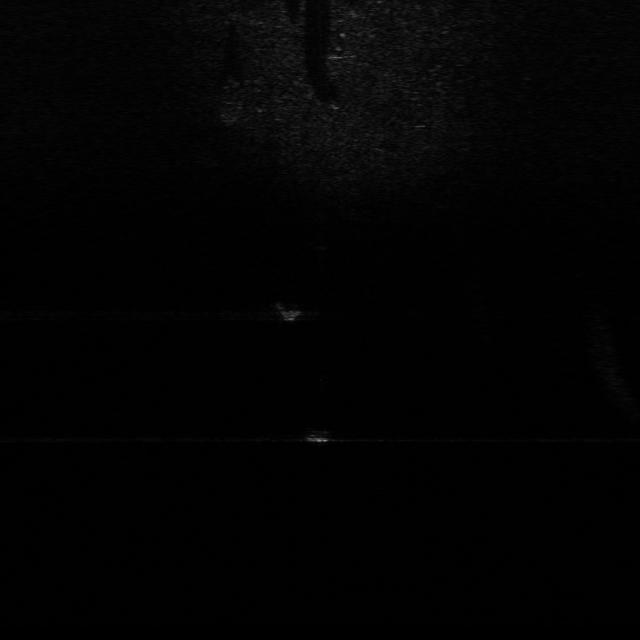cube: (300, 427, 334, 447)
square cage: (271, 297, 308, 326)
